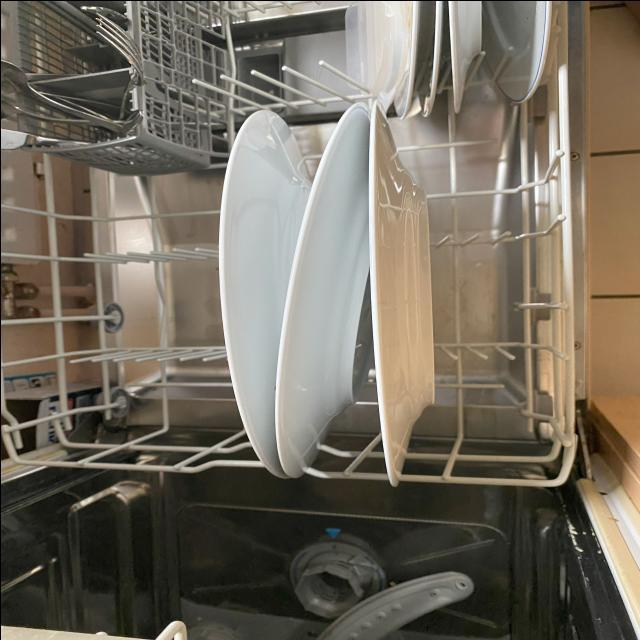clutery_bin: (12, 0, 201, 163)
empty_slot: (25, 181, 223, 459)
